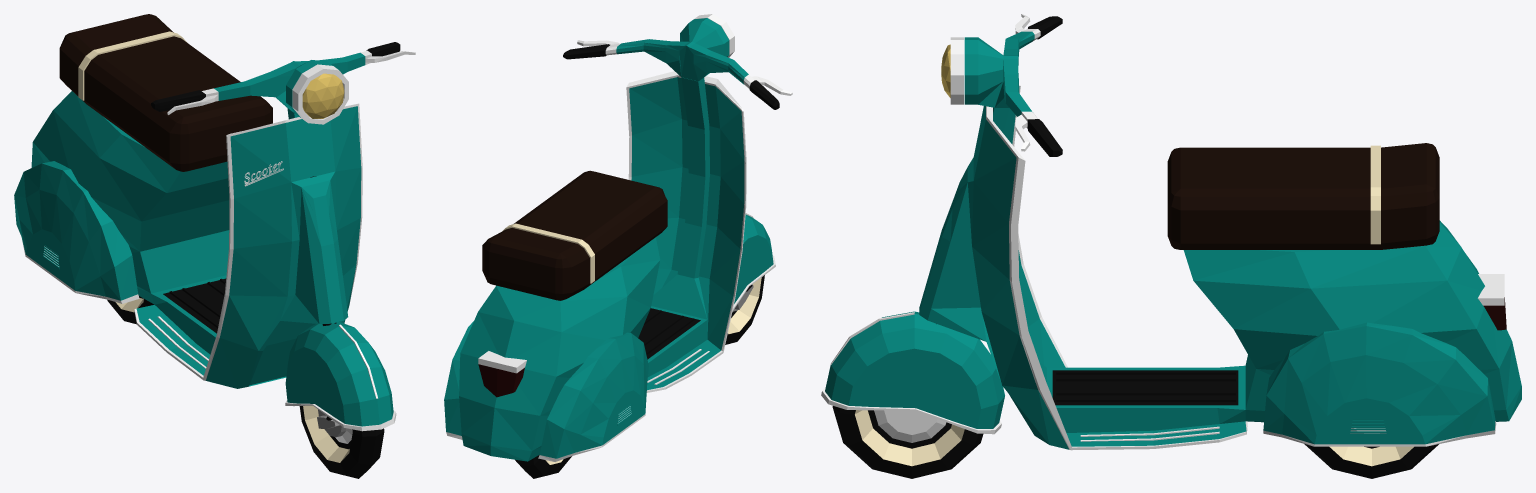
File: Scooter_01.FBX
The picture shows the model from 3 angles, left to right: view 1: azimuth 30°, elevation 25°; view 2: azimuth 150°, elevation 25°; view 3: azimuth 270°, elevation 25°; orthographic projection. The views are drawn at different scales.
Parts seen in each view (by area): view 1: Scooter_01, seat, mudguard, handlebars, wheel_f, headLights, light_f, wheel_b; view 2: Scooter_01, seat, handlebars, mudguard, wheel_f, tailLights, wheel_b, light_b, light_f; view 3: Scooter_01, seat, mudguard, wheel_f, handlebars, wheel_b, light_f, light_b.
Part boxes in pixels (bbox=[...]): Scooter_01: bbox=[14, 91, 362, 388]; seat: bbox=[59, 14, 272, 171]; mudguard: bbox=[285, 322, 396, 437]; handlebars: bbox=[151, 42, 415, 117]; wheel_f: bbox=[299, 405, 384, 478]; headLights: bbox=[302, 73, 344, 118]; light_f: bbox=[292, 64, 348, 124]; wheel_b: bbox=[107, 296, 154, 324]; Scooter_01: bbox=[444, 71, 746, 461]; seat: bbox=[482, 170, 667, 300]; handlebars: bbox=[563, 18, 792, 109]; mudguard: bbox=[732, 213, 775, 311]; wheel_f: bbox=[725, 275, 764, 344]; tailLights: bbox=[478, 364, 524, 397]; wheel_b: bbox=[515, 455, 571, 478]; light_b: bbox=[478, 351, 526, 373]; light_f: bbox=[694, 14, 734, 57]; Scooter_01: bbox=[919, 85, 1521, 450]; seat: bbox=[1167, 143, 1439, 249]; mudguard: bbox=[821, 311, 1004, 434]; wheel_f: bbox=[832, 406, 983, 478]; handlebars: bbox=[964, 14, 1062, 156]; wheel_b: bbox=[1304, 428, 1438, 478]; light_f: bbox=[950, 37, 963, 104]; light_b: bbox=[1478, 274, 1504, 305].
Bounding box in the file's own units: 8.46 × 12.84 × 18.57.
